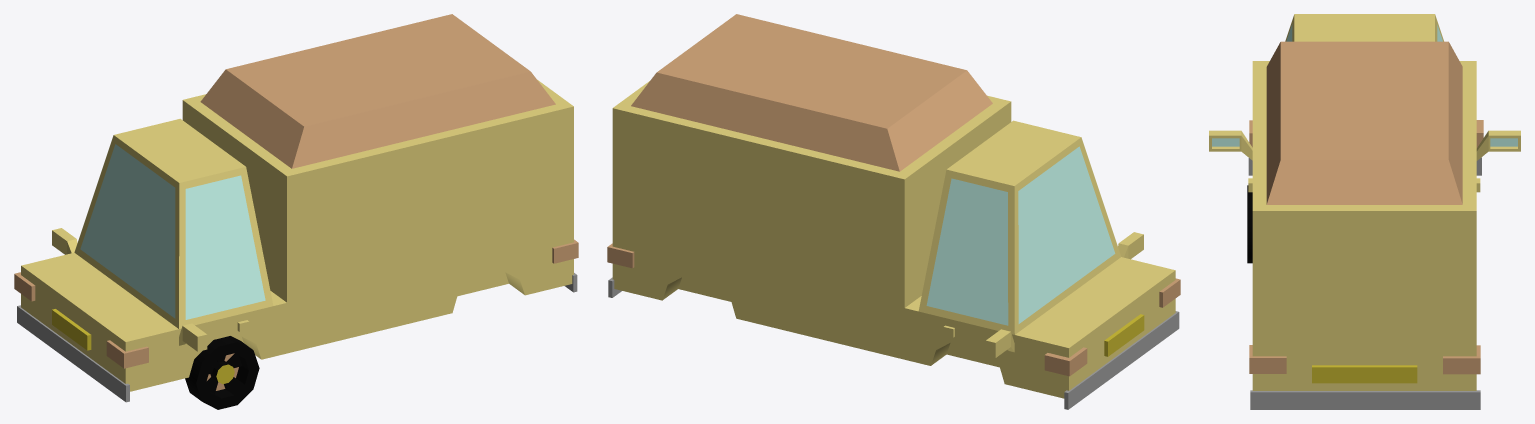
Rendered from Truck2.fbx.
3 renders of one model, left to right at view 1: azimuth 30°, elevation 25°; view 2: azimuth 150°, elevation 25°; view 3: azimuth 270°, elevation 25°, orthographic. The views are drawn at different scales.
Visible parts, largest first — view 1: Box044, Cylinder053, Box047, Box045, Box048, Box046; view 2: Box044, Box047, Box045, Box048, Box046; view 3: Box044, Box047, Box046, Box048, Box045, Cylinder053.
Part boxes in pixels (<box>): Box044: <box>21,14,573,391</box>; Cylinder053: <box>185,336,259,409</box>; Box047: <box>17,273,577,402</box>; Box045: <box>14,239,578,368</box>; Box048: <box>52,228,207,351</box>; Box046: <box>52,309,91,350</box>; Box044: <box>612,14,1175,398</box>; Box047: <box>608,277,1179,409</box>; Box045: <box>607,243,1180,376</box>; Box048: <box>985,232,1143,357</box>; Box046: <box>1104,314,1144,356</box>; Box044: <box>1252,14,1476,390</box>; Box047: <box>1248,157,1481,409</box>; Box046: <box>1312,365,1417,383</box>; Box048: <box>1209,130,1520,160</box>; Box045: <box>1249,120,1483,374</box>; Cylinder053: <box>1247,185,1252,263</box>.
Bounding box in the file's own units: 145 × 75.27 × 80.39.
Materials: 8 (8 with a texture image).
